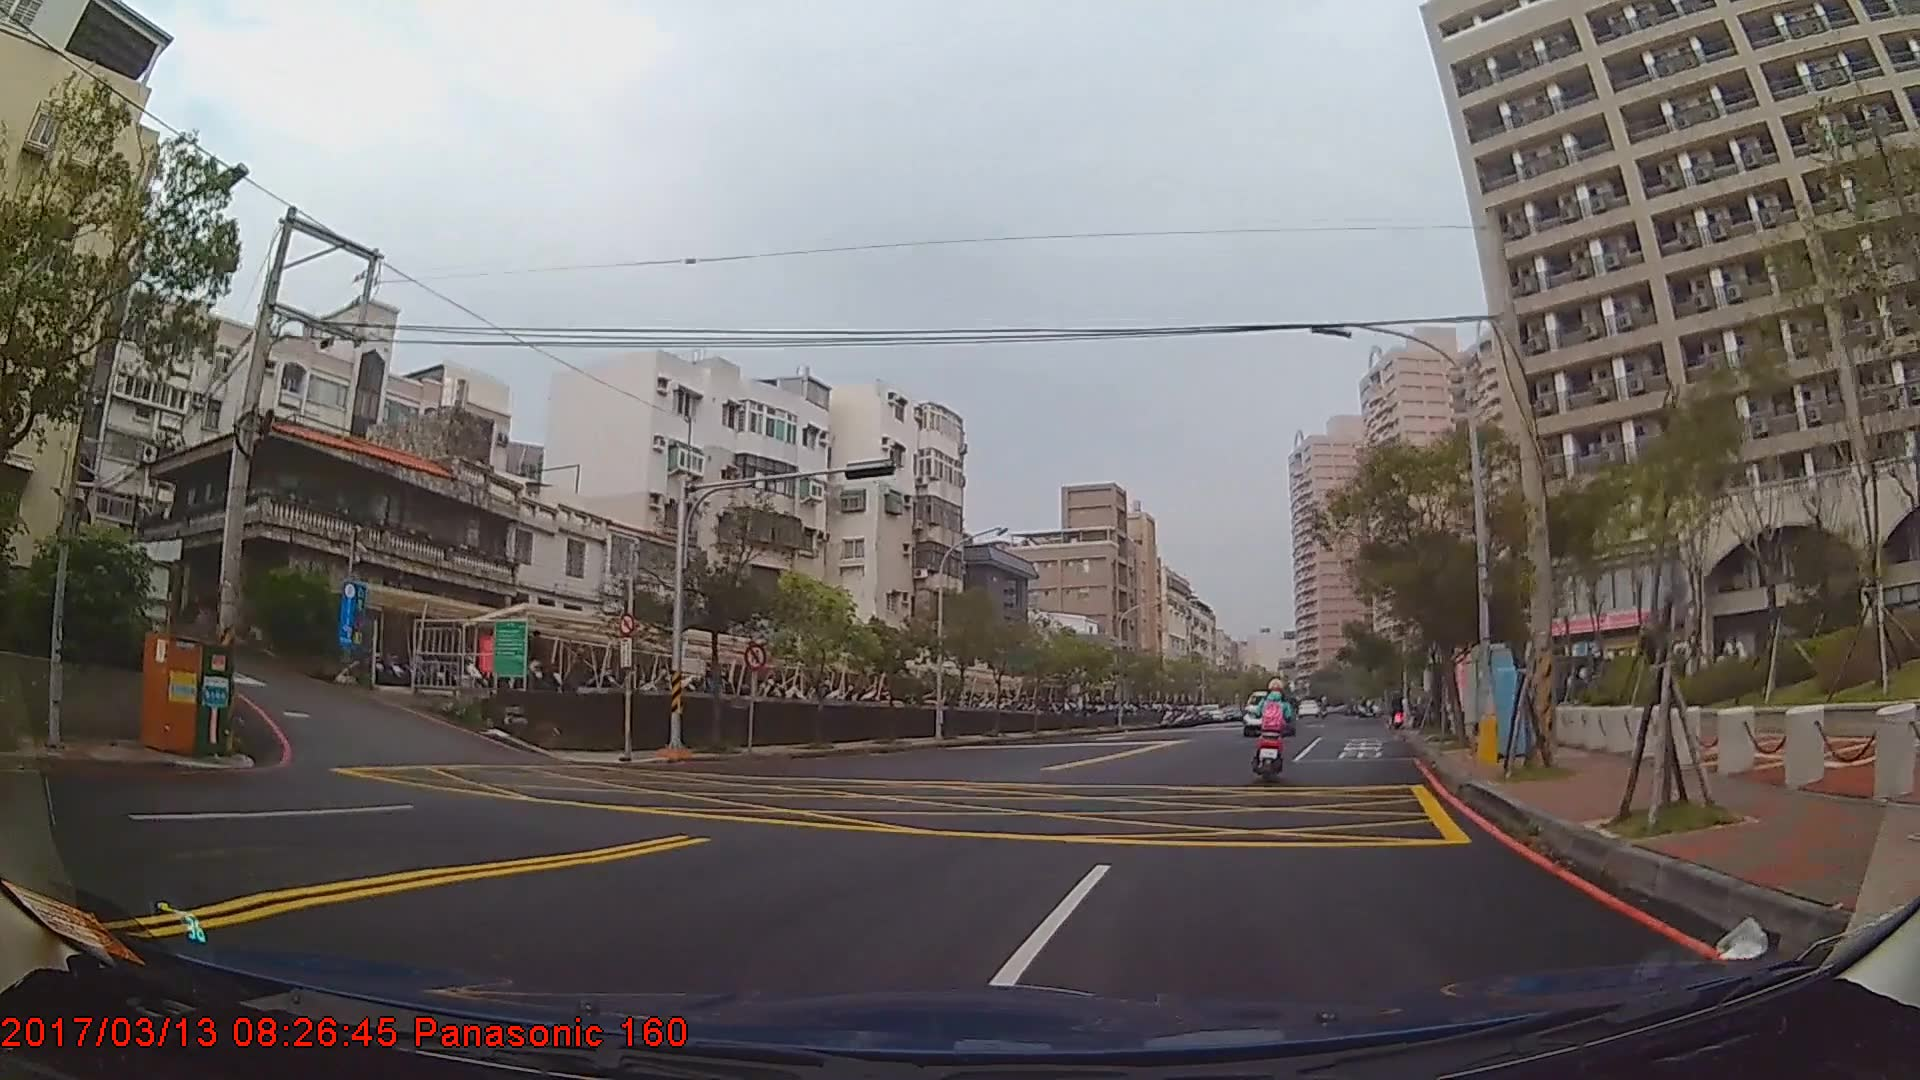rider: (1251, 679, 1297, 780)
vehicle: (1237, 688, 1293, 736)
